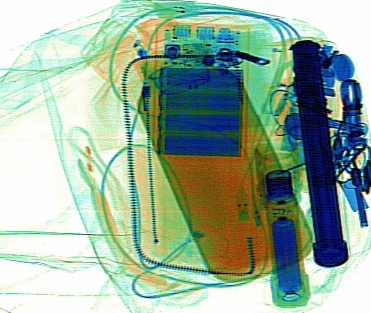powerbank: (150, 22, 247, 160)
